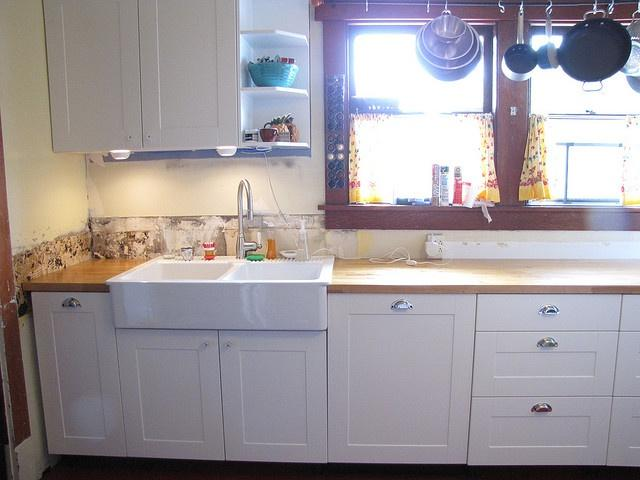Lemari: (41, 0, 238, 154)
